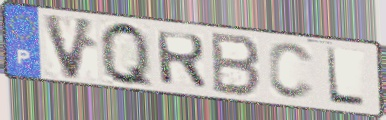B: (210, 29, 263, 100)
C: (267, 41, 317, 103)
L: (323, 45, 368, 109)
Q: (97, 19, 156, 91)
R: (153, 29, 209, 91)
V: (40, 11, 99, 82)
